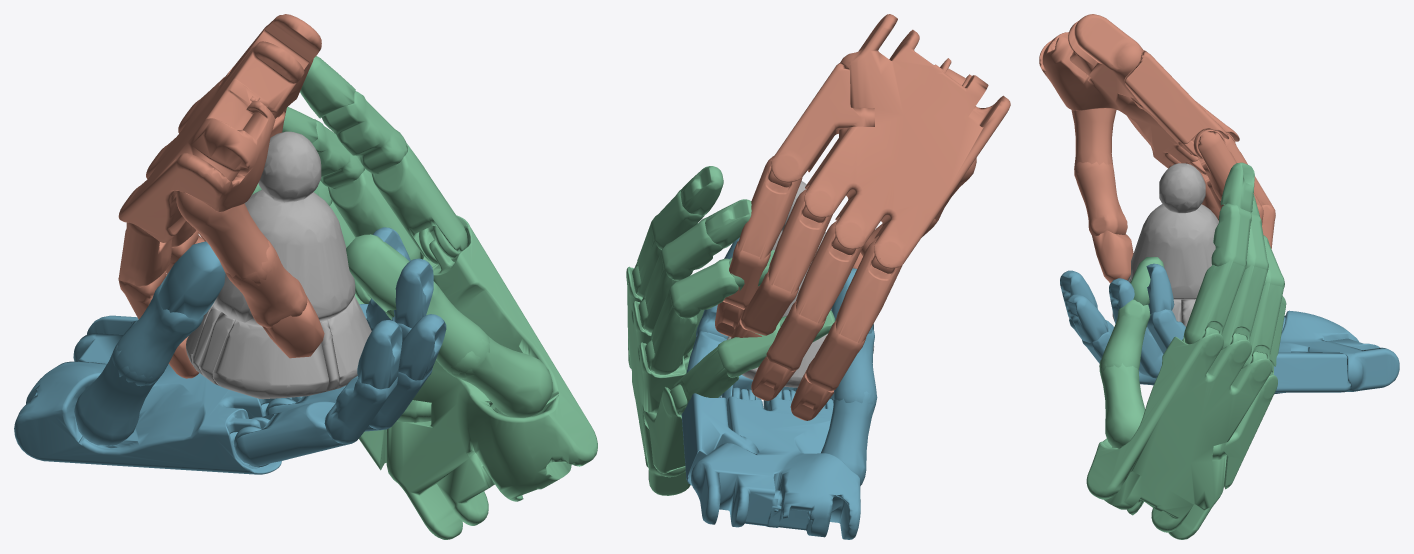
File: novel_mujoco-CHICKEN_NESTING_grasp.glb
3 views of the same model, side by side, from view 1: azimuth 30°, elevation 25°; view 2: azimuth 150°, elevation 25°; view 3: azimuth 270°, elevation 25° (orthographic). The views are drawn at different scales.
Bounding box in the file's own units: 0.2062 × 0.2727 × 0.1996.
